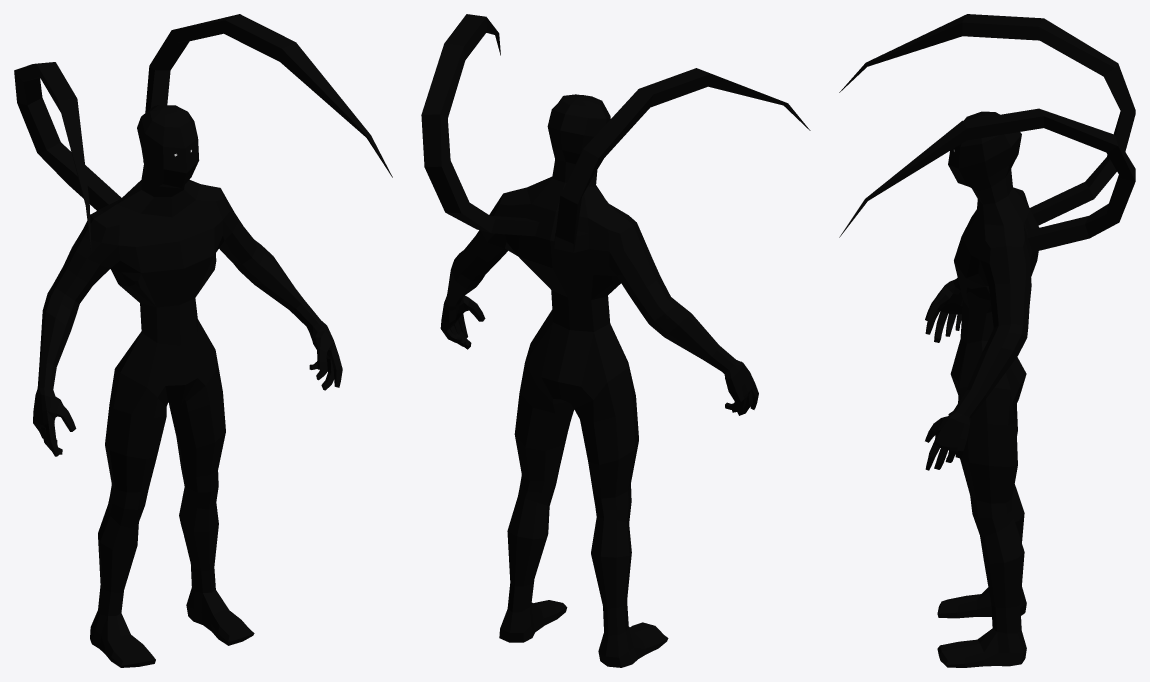
The picture shows the model from 3 angles, left to right: view 1: azimuth 30°, elevation 25°; view 2: azimuth 150°, elevation 25°; view 3: azimuth 270°, elevation 25°; orthographic projection. The views are drawn at different scales.
Visible parts, largest first — view 1: BaseMeshBKP; view 2: BaseMeshBKP; view 3: BaseMeshBKP.
Boxes of the visible parts, x1,y1,x2,y2 form: BaseMeshBKP: [14, 14, 392, 667]; BaseMeshBKP: [421, 14, 810, 667]; BaseMeshBKP: [839, 14, 1135, 667].
Size of the model in its own units: 284 by 519 by 245.
